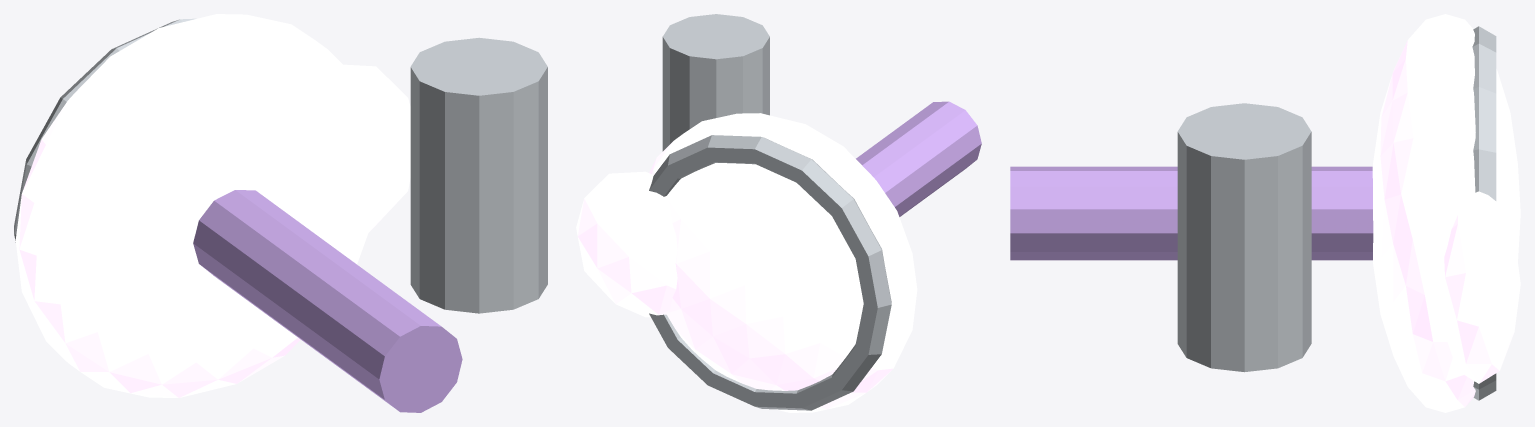
The model's file is ventosa_5.glb.
3 renders of one model, left to right at view 1: azimuth 30°, elevation 25°; view 2: azimuth 150°, elevation 25°; view 3: azimuth 270°, elevation 25°, orthographic. The views are drawn at different scales.
Parts seen in each view (by area): view 1: copa, deposito, tubo, copa_doble, aro; view 2: copa, aro, copa_doble, deposito, tubo; view 3: deposito, copa, tubo, copa_doble, aro.
Boxes of the visible parts, x1=… form: copa: x1=15, y1=14, x2=379, y2=397; deposito: x1=410, y1=37, x2=547, y2=313; tubo: x1=193, y1=190, x2=462, y2=412; copa_doble: x1=343, y1=64, x2=410, y2=232; aro: x1=14, y1=18, x2=196, y2=242; copa: x1=649, y1=113, x2=917, y2=412; aro: x1=649, y1=135, x2=891, y2=410; copa_doble: x1=576, y1=171, x2=677, y2=317; deposito: x1=662, y1=14, x2=769, y2=151; tubo: x1=856, y1=101, x2=981, y2=216; deposito: x1=1177, y1=103, x2=1311, y2=372; copa: x1=1372, y1=14, x2=1520, y2=412; tubo: x1=1010, y1=166, x2=1373, y2=260; copa_doble: x1=1442, y1=191, x2=1520, y2=383; aro: x1=1472, y1=26, x2=1496, y2=400.
Bounding box in the file's own units: 0.8262 × 0.7082 × 0.9.
